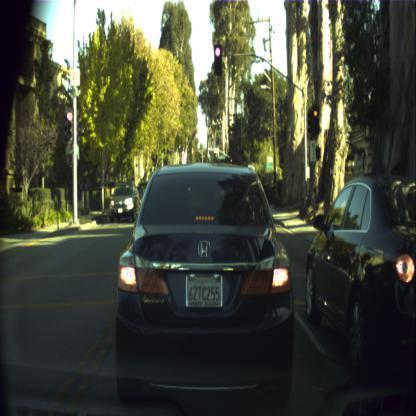Red: (214, 44, 221, 74), (65, 110, 72, 140), (312, 107, 320, 133), (230, 157, 233, 163)
